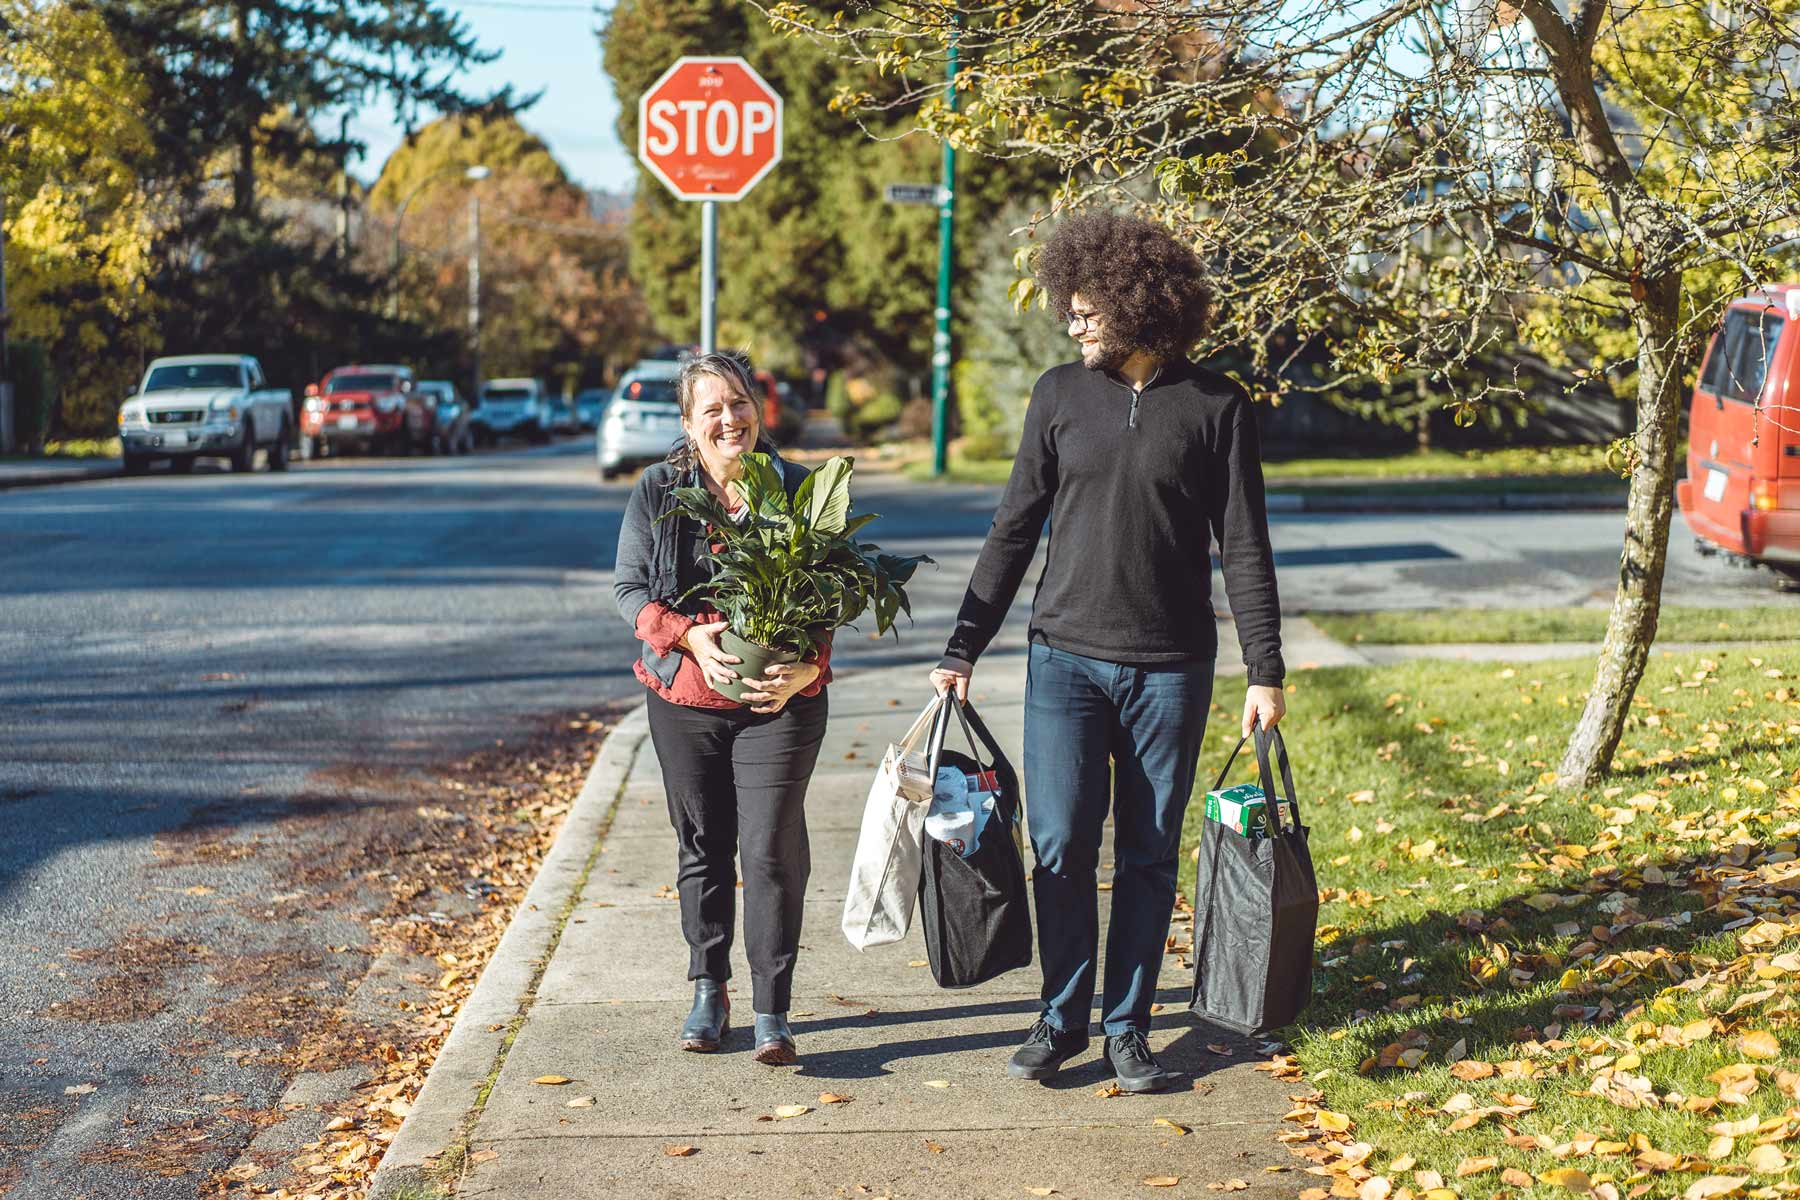Person: (923, 209, 1306, 1090), (589, 346, 845, 1078)
